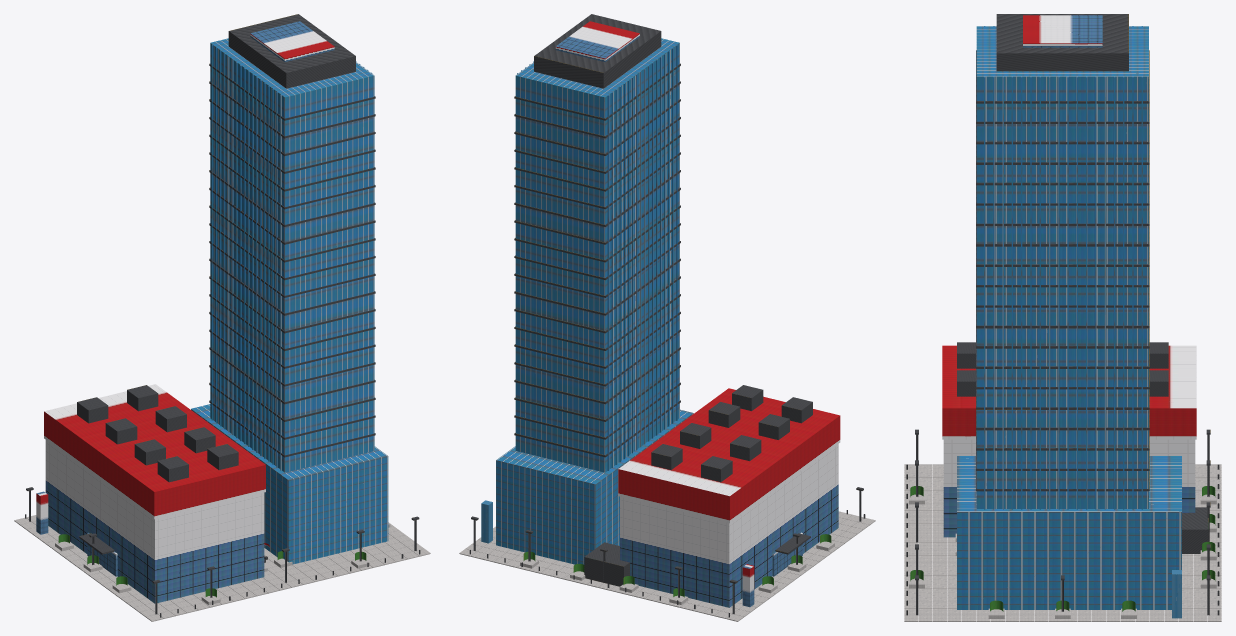
3 views of the same model, side by side, from view 1: azimuth 30°, elevation 25°; view 2: azimuth 150°, elevation 25°; view 3: azimuth 270°, elevation 25° (orthographic). The views are drawn at different scales.
Parts seen in each view (by area): view 1: 28185_B12_Homeplus_Onestar; view 2: 28185_B12_Homeplus_Onestar; view 3: 28185_B12_Homeplus_Onestar.
Part boxes in pixels (x1,y1,x2,y2): 28185_B12_Homeplus_Onestar: (14, 14, 430, 621); 28185_B12_Homeplus_Onestar: (459, 14, 875, 621); 28185_B12_Homeplus_Onestar: (904, 14, 1221, 621).
Bounding box in the file's own units: 55.95 × 92.2 × 47.95.
Materials: 1 (1 with a texture image).
